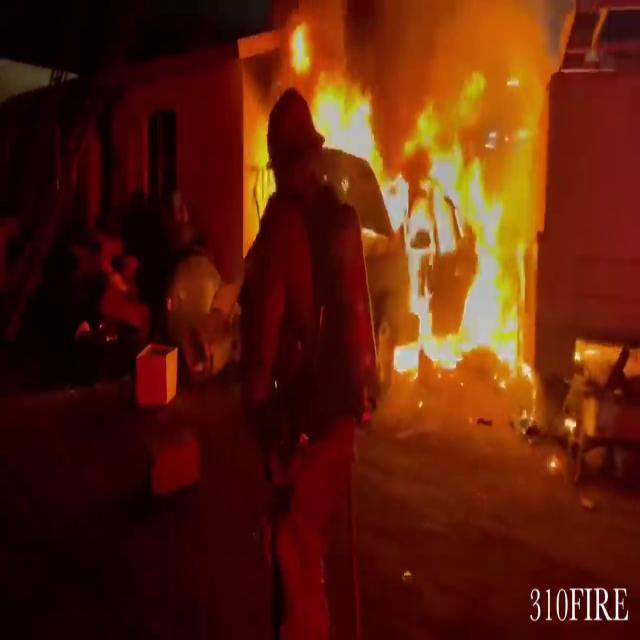Fire: (290, 3, 532, 380), (376, 70, 532, 382), (287, 9, 373, 178)
